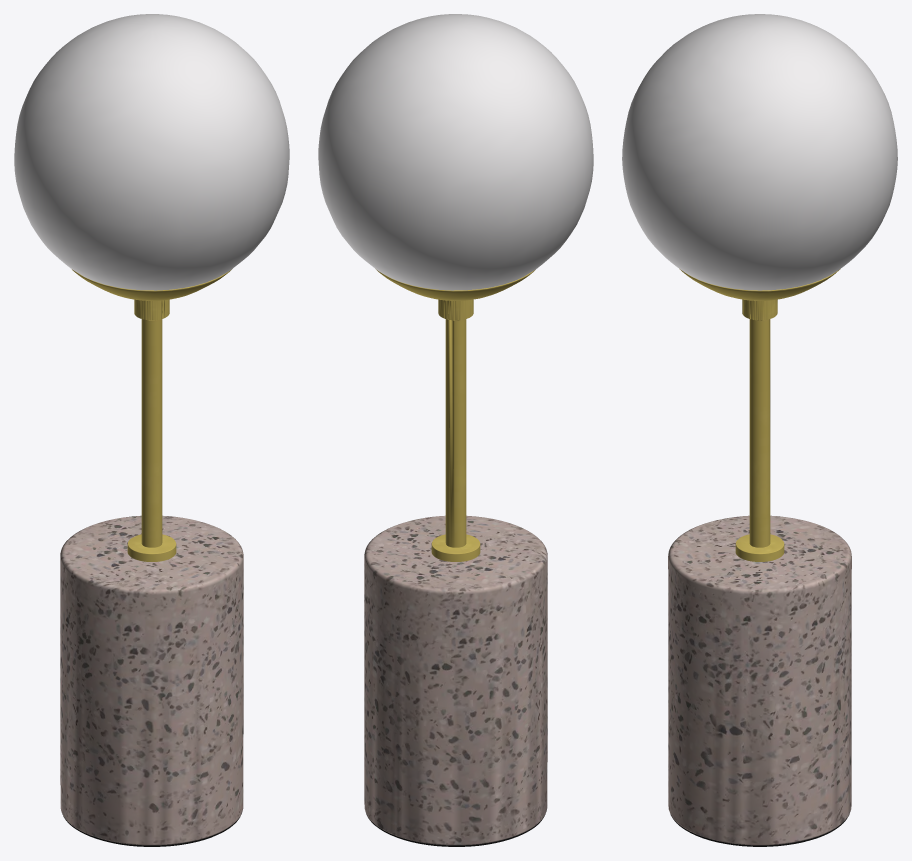
Rendered from B082XM1MZT.glb.
3 views of the same model, side by side, from view 1: azimuth 30°, elevation 25°; view 2: azimuth 150°, elevation 25°; view 3: azimuth 270°, elevation 25° (orthographic).
Parts seen in each view (by area): view 1: RootNode; view 2: RootNode; view 3: RootNode.
Part boxes in pixels (x1,y1,x2,y2): RootNode: (14,14,289,846); RootNode: (318,14,593,846); RootNode: (622,14,897,846).
Size of the model in its own units: 0.1534 by 0.4802 by 0.1534.
Materials: 1 (1 with a texture image).
